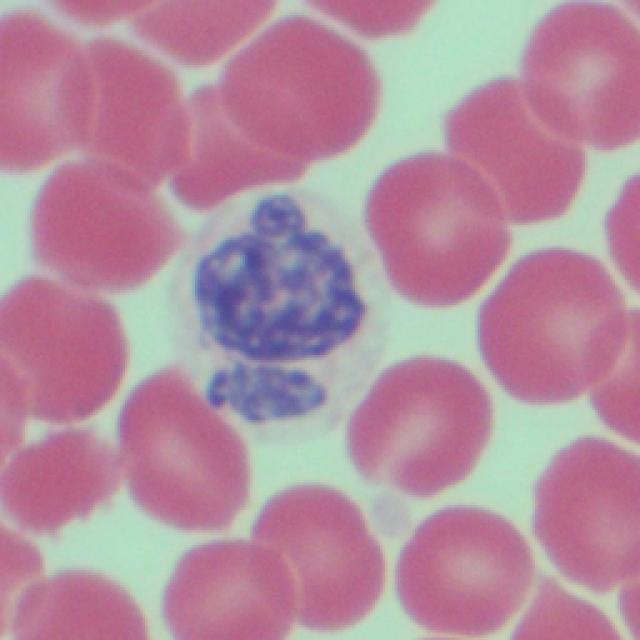RBC: (0, 268, 124, 548), (29, 119, 184, 298), (214, 7, 378, 166), (482, 245, 630, 415), (366, 145, 505, 310), (116, 352, 243, 531), (345, 349, 484, 501), (251, 474, 384, 632), (448, 68, 582, 222), (388, 499, 528, 638), (524, 435, 636, 603), (0, 11, 109, 183), (516, 0, 639, 152), (37, 0, 275, 65), (155, 534, 291, 638), (298, 0, 442, 41), (605, 163, 640, 303)
WBC: (169, 148, 395, 458)
